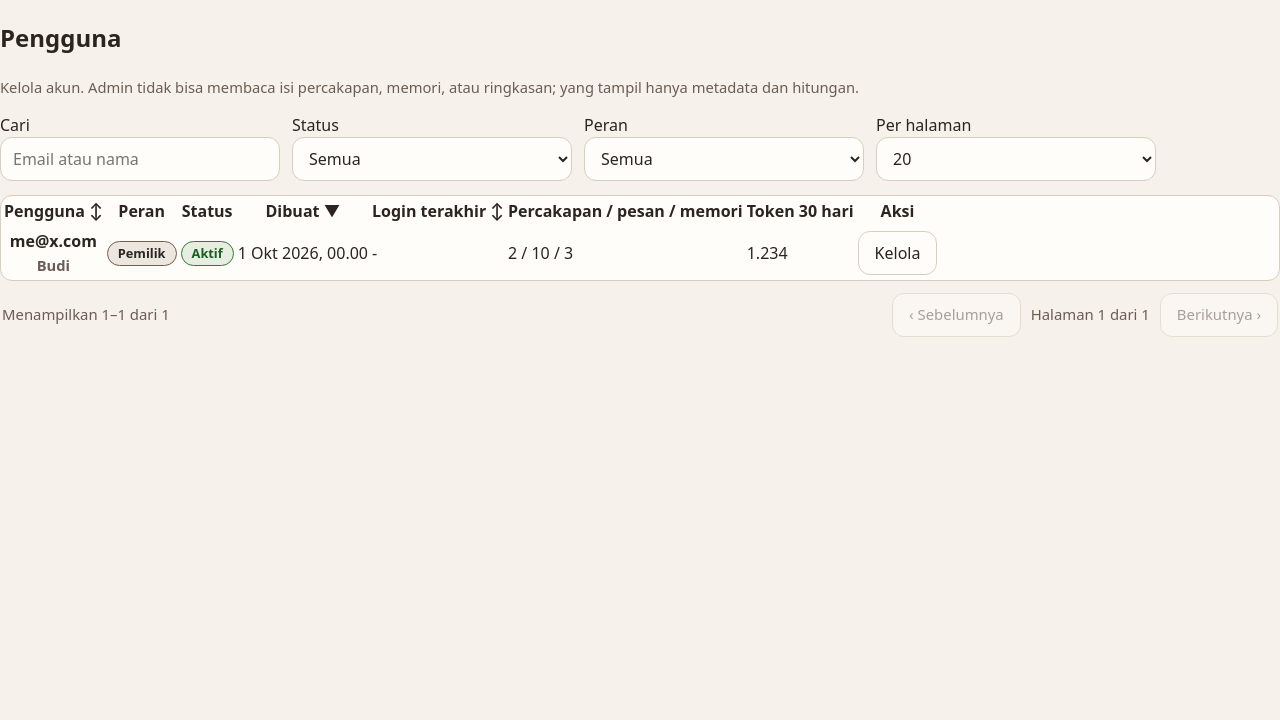
Test case: UsersPage › akun sendiri dan pemilik dikunci; hapus butuh mengetik email
Click the button with aria-label "Kelola me@x.com".
click(898, 253)  # box [858,231,937,275]
(page scrolled)
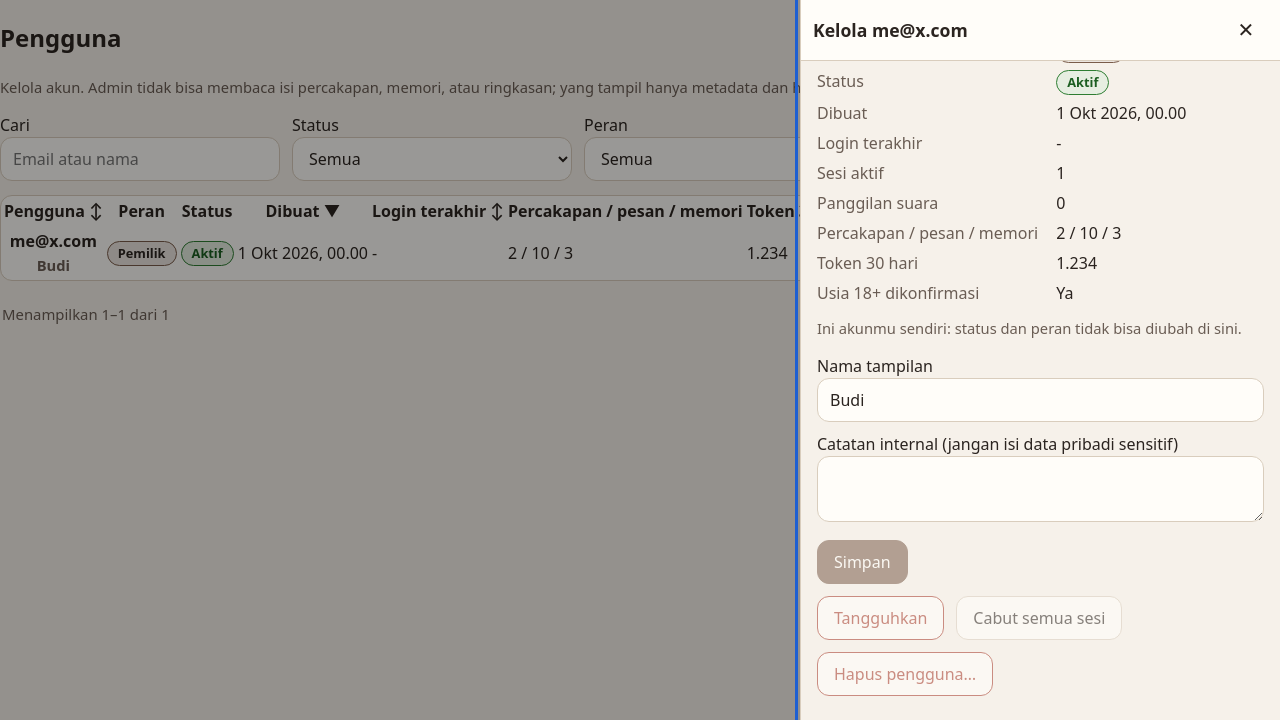
Expected: the text "akunmu sendiri" is shown, [817,318,1242,338]
Expected: the button "Tangguhkan" is disabled, [817,596,944,640]
Expected: the button "Hapus pengguna…" is disabled, [817,652,993,696]
